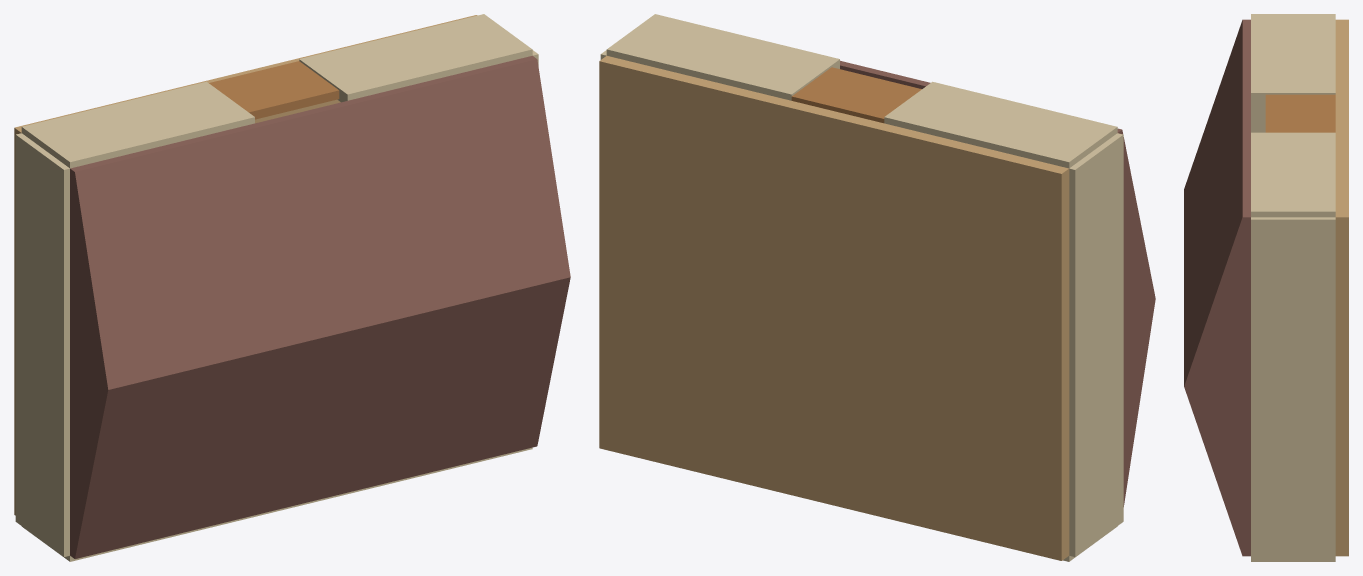
File: lodge.obj
The picture shows the model from 3 angles, left to right: view 1: azimuth 30°, elevation 25°; view 2: azimuth 150°, elevation 25°; view 3: azimuth 270°, elevation 25°; orthographic projection. The views are drawn at different scales.
Parts seen in each view (by area): view 1: roof_tile0-2, roof_tile0-3, roof_tile1-3, roof_tile2-3, roof_tile3-3, roof_tile4-3, roof_tile2-2, roof_tile4-2, roof_tile3-2, roof_tile1-2, roof_tile0-1, roof_tile0-0 (+17 smaller); view 2: foundation_tile0-3, foundation_tile0-2, foundation_tile0-1, foundation_tile3-3, foundation_tile0-0, foundation_tile1-3, foundation_tile2-3, foundation_tile4-3, foundation_tile1-0, foundation_tile3-1, foundation_tile3-0, foundation_tile1-1 (+22 smaller); view 3: walls_edge12, walls_edge10, walls_edge11, walls_edge9, roof_tile4-2, roof_tile4-1, walls_edge16, walls_edge14, roof_tile4-3, walls_edge15, walls_edge13, door_whole (+19 smaller).
Boxes of the visible parts, <box> form: roof_tile0-2: <box>70,258,200,389</box>; roof_tile0-3: <box>70,146,183,280</box>; roof_tile1-3: <box>163,123,276,258</box>; roof_tile2-3: <box>255,101,368,235</box>; roof_tile3-3: <box>348,78,461,213</box>; roof_tile4-3: <box>440,55,553,190</box>; roof_tile2-2: <box>276,213,385,344</box>; roof_tile4-2: <box>461,168,570,299</box>; roof_tile3-2: <box>369,191,477,322</box>; roof_tile1-2: <box>184,236,293,367</box>; roof_tile0-1: <box>70,362,200,474</box>; roof_tile0-0: <box>70,452,183,558</box>; foundation_tile0-3: <box>969,146,1069,270</box>; foundation_tile0-2: <box>969,248,1069,367</box>; foundation_tile0-1: <box>969,345,1069,464</box>; foundation_tile3-3: <box>691,78,791,202</box>; foundation_tile0-0: <box>969,442,1069,560</box>; foundation_tile1-3: <box>876,123,975,247</box>; foundation_tile2-3: <box>784,101,883,225</box>; foundation_tile4-3: <box>599,56,698,180</box>; foundation_tile1-0: <box>876,419,969,538</box>; foundation_tile3-1: <box>691,277,784,396</box>; foundation_tile3-0: <box>691,374,784,493</box>; foundation_tile1-1: <box>876,322,969,441</box>; walls_edge12: <box>1251,217,1335,304</box>; walls_edge10: <box>1251,389,1335,474</box>; walls_edge11: <box>1251,304,1335,389</box>; walls_edge9: <box>1251,474,1335,558</box>; roof_tile4-2: <box>1184,263,1250,386</box>; roof_tile4-1: <box>1184,387,1250,471</box>; walls_edge16: <box>1251,172,1335,217</box>; walls_edge14: <box>1251,53,1335,103</box>; roof_tile4-3: <box>1213,177,1250,301</box>; walls_edge15: <box>1251,132,1335,172</box>; walls_edge13: <box>1251,14,1335,53</box>; door_whole: <box>1265,94,1335,132</box>.
Size of the model in its own units: 5.13 by 4.13 by 1.76.
